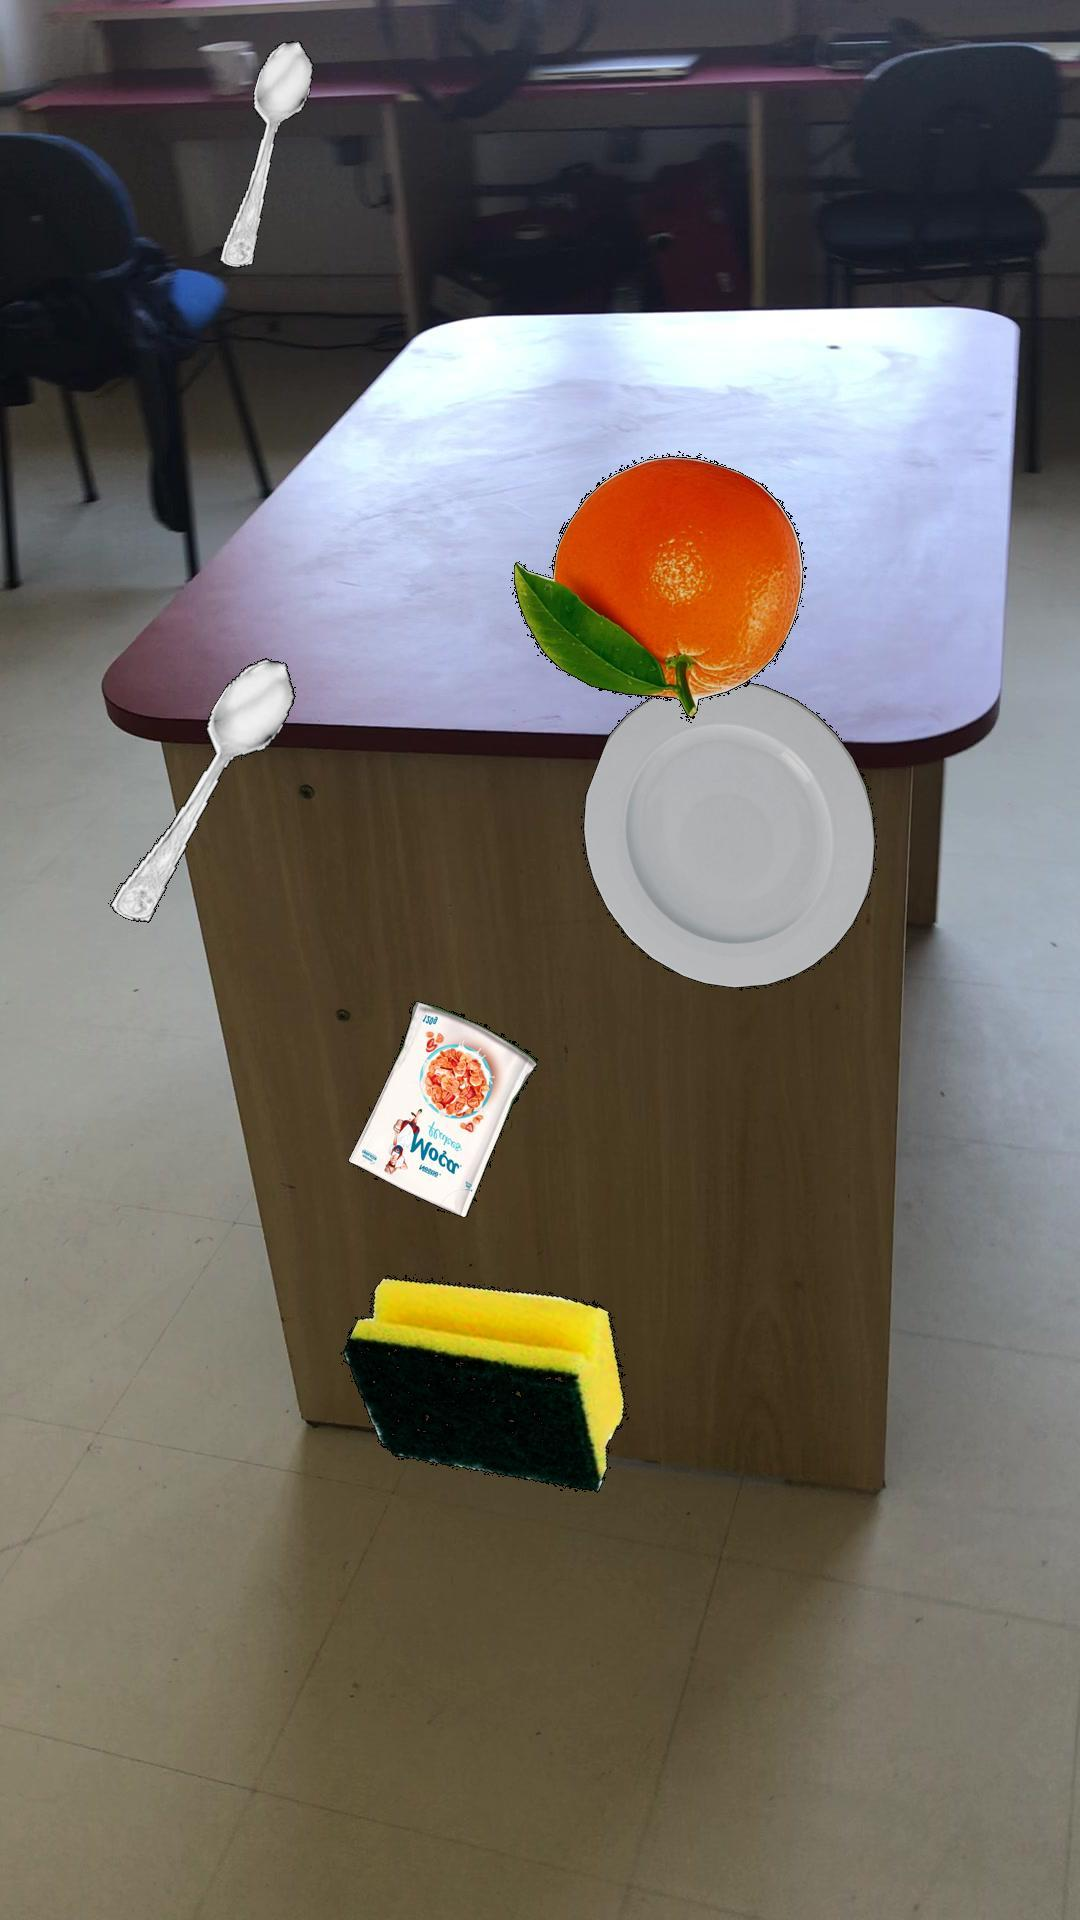corn flakes: (347, 1000, 535, 1217)
orange: (510, 452, 803, 717)
plate: (582, 682, 873, 989)
sponge: (342, 1276, 625, 1491)
spoon: (108, 657, 294, 922), (218, 40, 313, 266)
